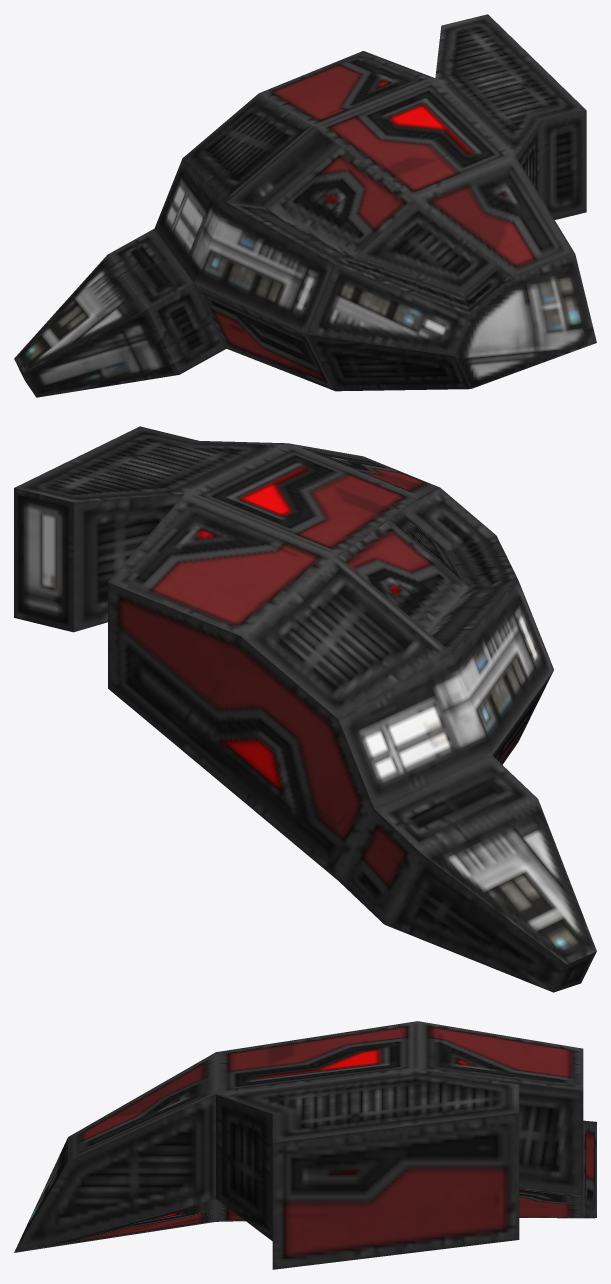
Rendered from BFP_ConstForwardBHull01_Right.FBX.
The picture shows the model from 3 angles, top to bottom: view 1: azimuth 30°, elevation 25°; view 2: azimuth 150°, elevation 25°; view 3: azimuth 270°, elevation 25°; orthographic projection. The views are drawn at different scales.
Parts seen in each view (by area): view 1: BFP_ConstForwardBHull01_Right; view 2: BFP_ConstForwardBHull01_Right; view 3: BFP_ConstForwardBHull01_Right.
Boxes of the visible parts, x1=… form: BFP_ConstForwardBHull01_Right: x1=14, y1=14, x2=596, y2=397; BFP_ConstForwardBHull01_Right: x1=14, y1=426, x2=596, y2=992; BFP_ConstForwardBHull01_Right: x1=14, y1=1021, x2=596, y2=1269.
Size of the model in its own units: 197 by 113 by 173.
Materials: 1 (1 with a texture image).
